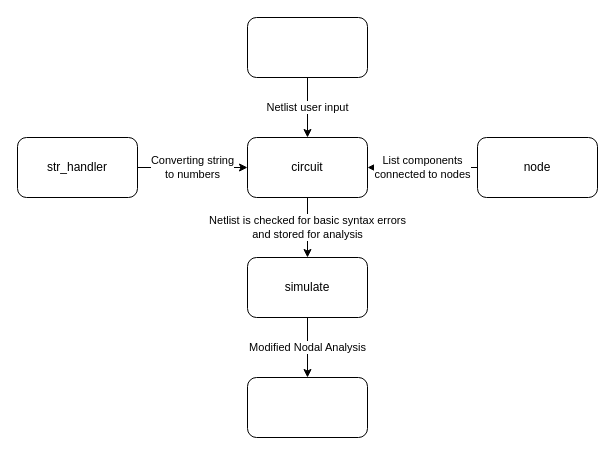
The diagram is 615 pixels wide and 455 high, and some of its shapes have lost their labels. The shapes that lost their labels are listed below. From the top down, each one's box as (x1, y1, x2, y2) in pixels, then its label:
(246, 16, 368, 78): Netlist Input
(246, 376, 368, 438): output.csv
